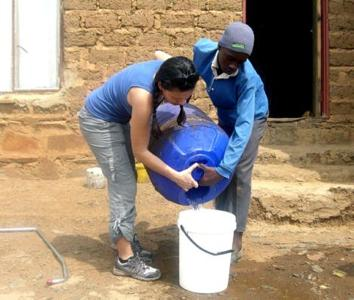person: (77, 49, 199, 283)
